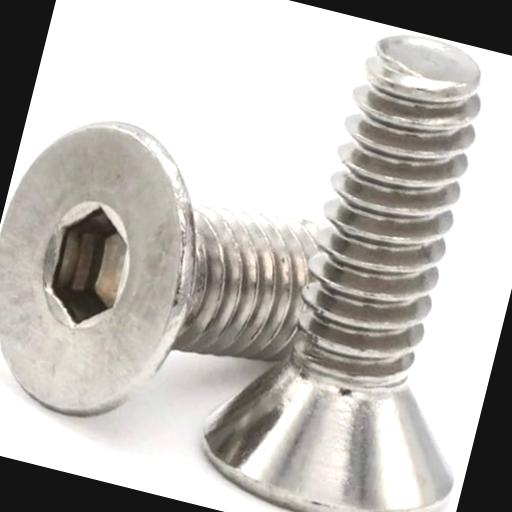Hex-Allen: (0, 102, 223, 439)
